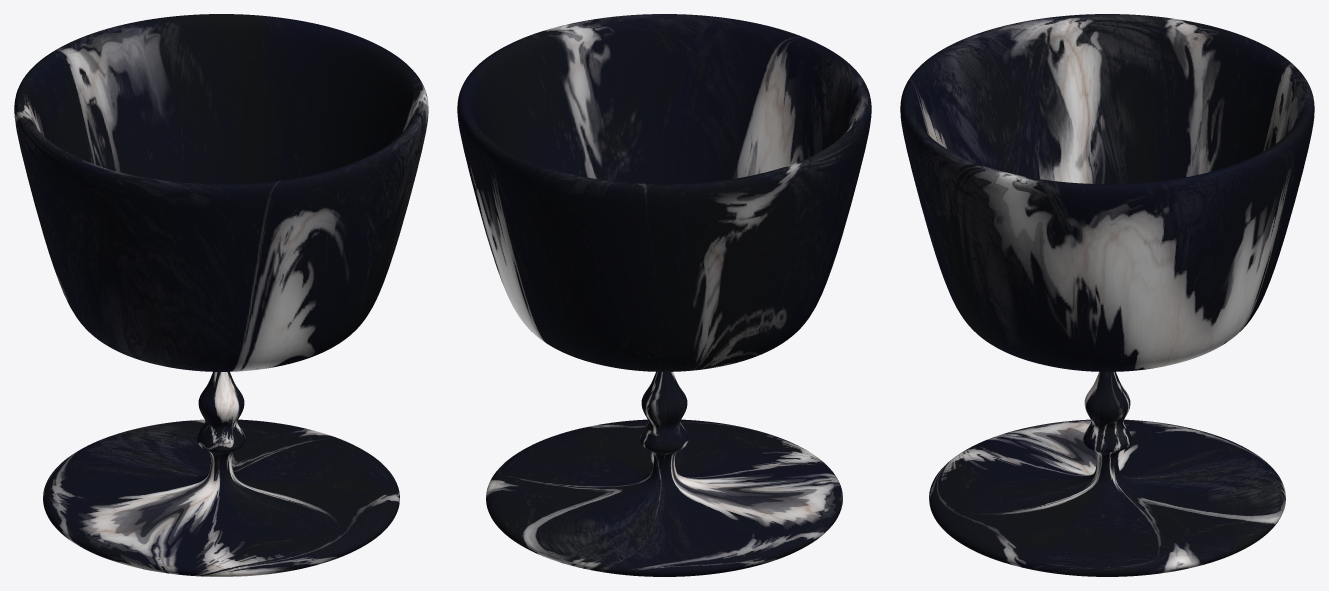
File: vaso.gltf
3 renders of one model, left to right at view 1: azimuth 30°, elevation 25°; view 2: azimuth 150°, elevation 25°; view 3: azimuth 270°, elevation 25°, orthographic.
Visible parts, largest first — view 1: Livello 01; view 2: Livello 01; view 3: Livello 01.
Boxes of the visible parts, x1=… form: Livello 01: x1=14, y1=14, x2=428, y2=576; Livello 01: x1=457, y1=14, x2=871, y2=576; Livello 01: x1=900, y1=14, x2=1314, y2=576.
Size of the model in its own units: 2133 by 2306 by 2133.
1 material, 1 textured.
